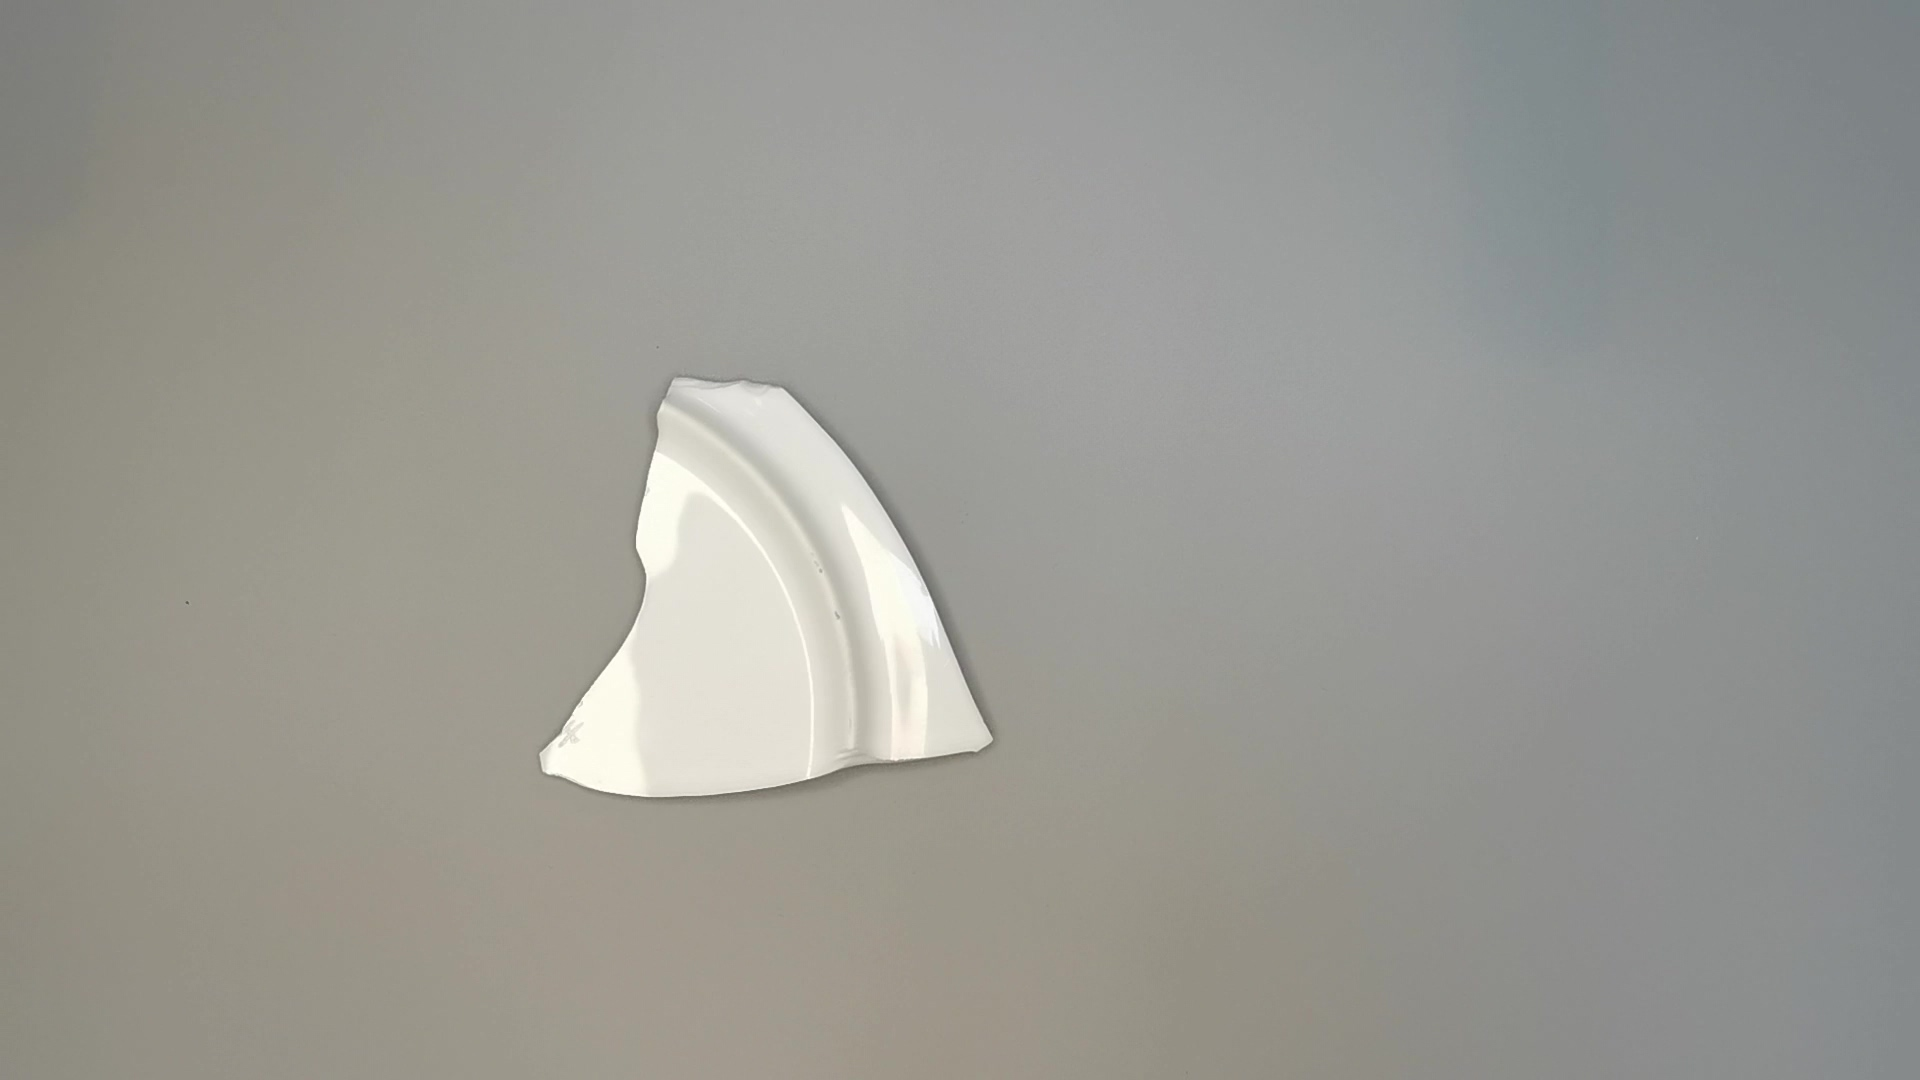ceramic: (514, 363, 1007, 814)
